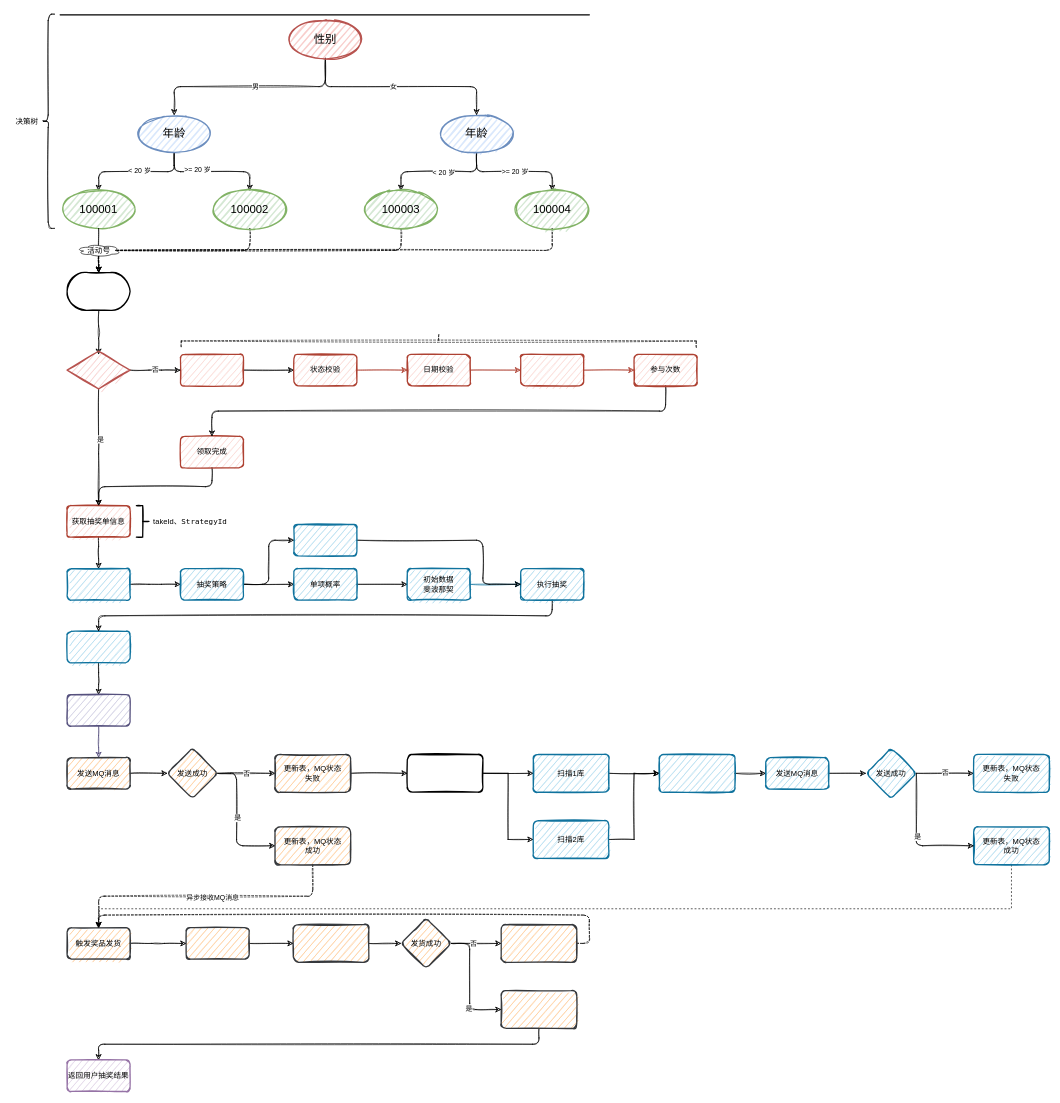
The diagram is 1060 pixels wide and 1103 high, and some of its shapes have lost their labels. Each missing label, with the centre of its shape:
"MQ 消息重试" belongs at point (538, 943).
"Worker 扫描表发送状态进行补偿发送MQ" belongs at point (444, 773).
"参与抽奖" belongs at point (98, 584).
"奖品落库" belongs at point (98, 710).
"库存校验(总)" belongs at point (552, 369).
"总体概率" belongs at point (325, 540).
"执行发货" belongs at point (330, 943).
"扫描4张表 读取未发送MQ数据" belongs at point (696, 773).
"抽奖结果 奖品ID🏅" belongs at point (98, 646).
"是否存在 未执行 抽奖单" belongs at point (98, 369).
"更新库表发货状态" belongs at point (538, 1009).
"查询活动账单，并校验信息" belongs at point (438, 340).
"活动开始" belongs at point (98, 291).
"获取奖品发货工厂服务" belongs at point (217, 943).
"领取活动" belongs at point (212, 369).
